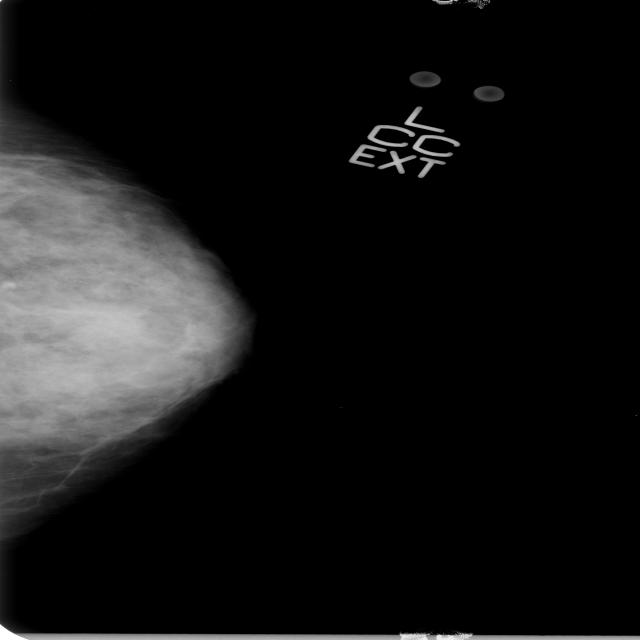normal: (0, 112, 255, 539)
